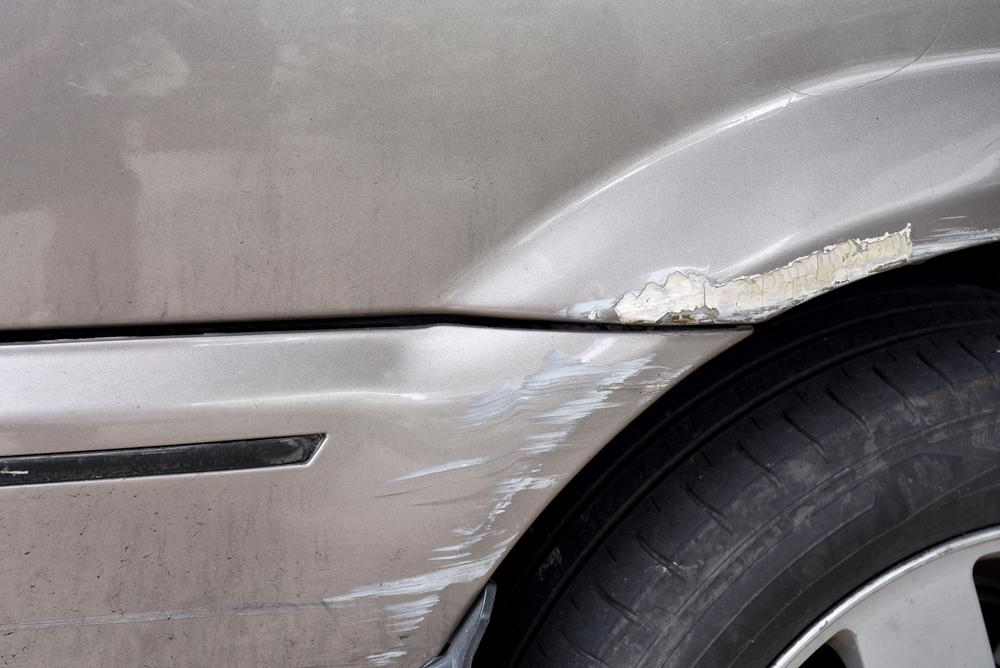scratch: (0, 351, 683, 668), (566, 213, 1000, 323)
